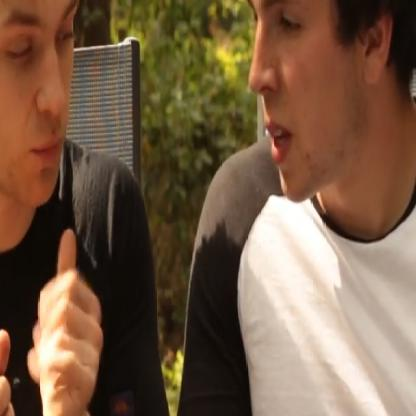knife: (0, 219, 23, 415)
